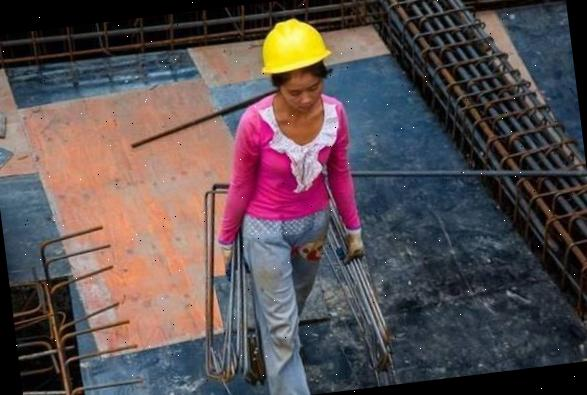helmet: (255, 14, 334, 74)
no_wear: (236, 95, 349, 230)
